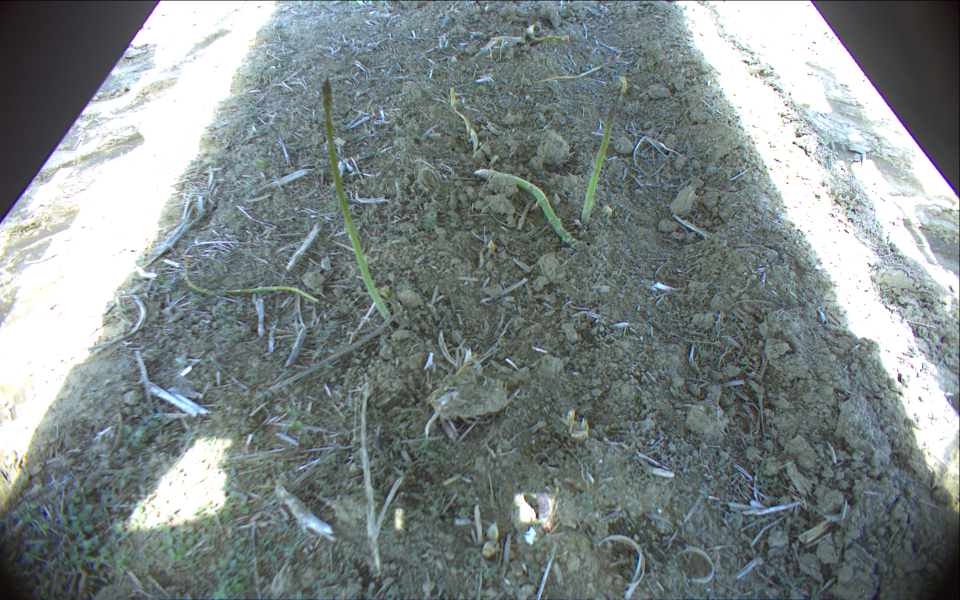aspa: (323, 76, 390, 324), (475, 168, 575, 245), (581, 80, 626, 229), (183, 258, 321, 305), (528, 24, 570, 42)
